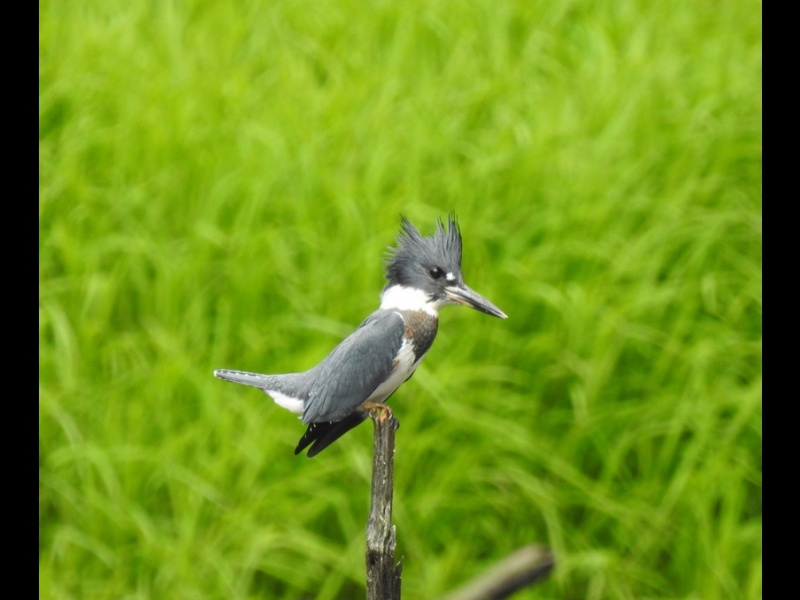kingfisher: (207, 203, 513, 463)
